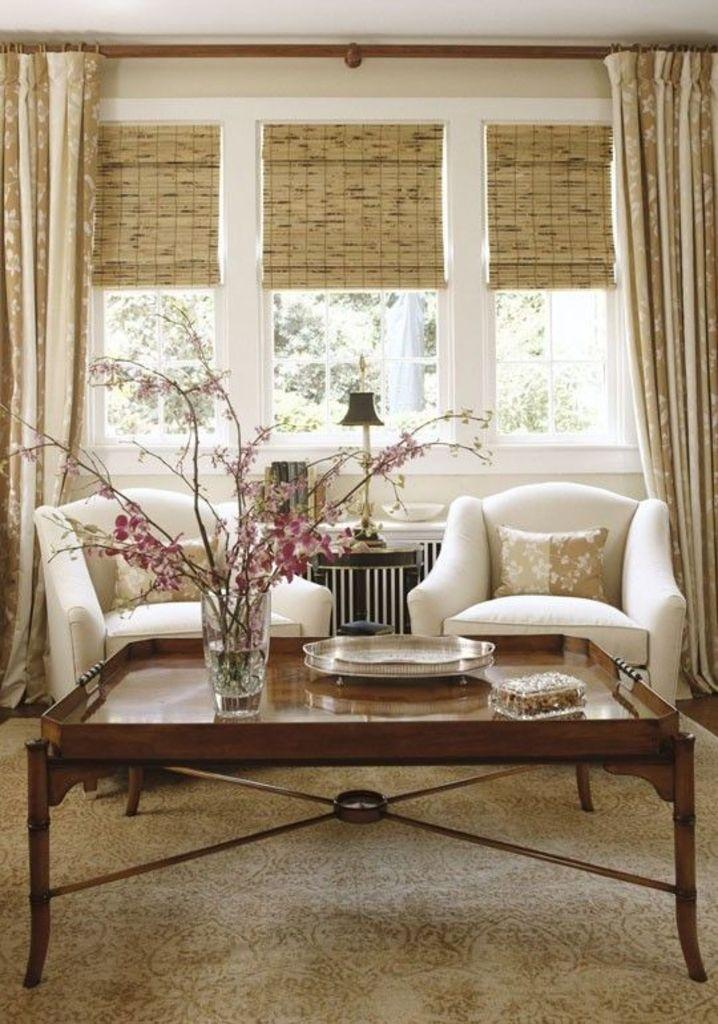Chair: (28, 484, 335, 798), (416, 487, 678, 701)
